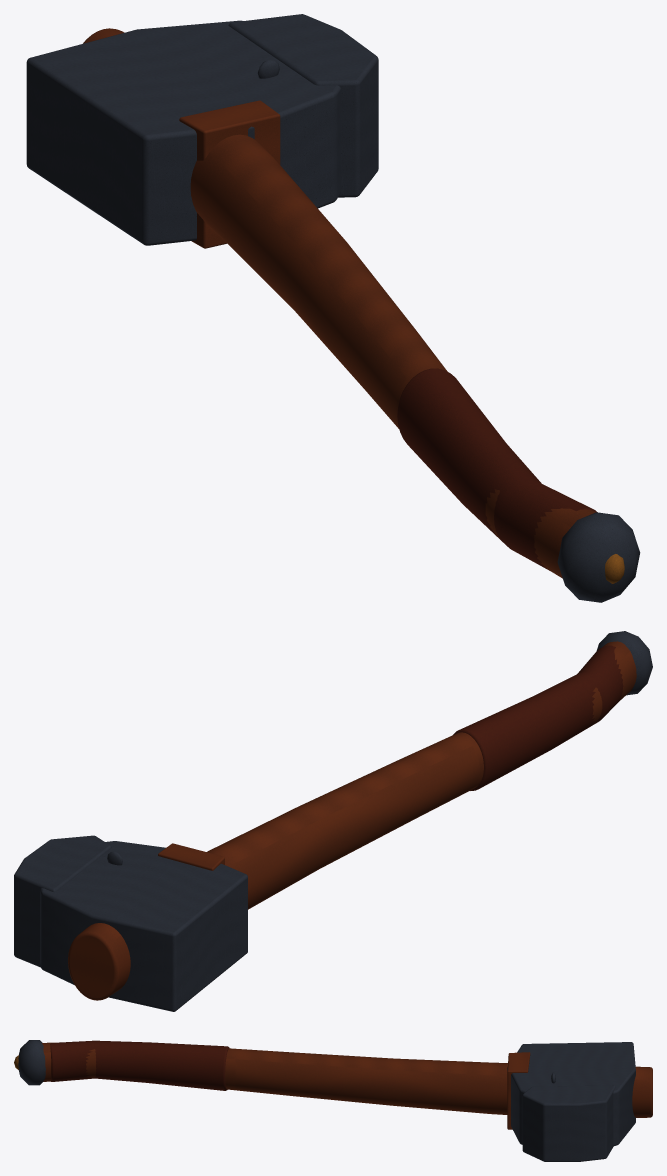
File: fittings-bearded-axe.glb
The picture shows the model from 3 angles, top to bottom: view 1: azimuth 30°, elevation 25°; view 2: azimuth 150°, elevation 25°; view 3: azimuth 270°, elevation 25°; orthographic projection. The views are drawn at different scales.
Visible parts, largest first — view 1: BeardedAxe_HaftSeatReinforcement, BeardedAxe_Handle, BeardedAxe_Grip, BeardedAxe_PollCap, BeardedAxe_ButtCap, BeardedAxe_Wedge; view 2: BeardedAxe_HaftSeatReinforcement, BeardedAxe_Handle, BeardedAxe_Grip, BeardedAxe_PollCap, BeardedAxe_ButtCap, BeardedAxe_Wedge; view 3: BeardedAxe_Handle, BeardedAxe_Grip, BeardedAxe_PollCap, BeardedAxe_HaftSeatReinforcement, BeardedAxe_ButtCap, BeardedAxe_Wedge.
Part boxes in pixels (x1,y1,x2,y2): BeardedAxe_HaftSeatReinforcement: (26, 20, 340, 245); BeardedAxe_Handle: (83, 28, 595, 578); BeardedAxe_Grip: (397, 368, 597, 570); BeardedAxe_PollCap: (228, 14, 378, 197); BeardedAxe_ButtCap: (557, 512, 640, 602); BeardedAxe_Wedge: (179, 100, 280, 248); BeardedAxe_HaftSeatReinforcement: (40, 841, 247, 1011); BeardedAxe_Handle: (68, 641, 636, 1000); BeardedAxe_Grip: (453, 645, 623, 790); BeardedAxe_PollCap: (14, 835, 111, 967); BeardedAxe_ButtCap: (596, 631, 652, 695); BeardedAxe_Wedge: (158, 843, 224, 870); BeardedAxe_Handle: (42, 1042, 652, 1117); BeardedAxe_Grip: (50, 1040, 229, 1090); BeardedAxe_PollCap: (522, 1085, 615, 1161); BeardedAxe_HaftSeatReinforcement: (507, 1042, 635, 1146); BeardedAxe_ButtCap: (18, 1040, 45, 1085); BeardedAxe_Wedge: (507, 1052, 530, 1129).
Bounding box in the file's own units: 0.7832 × 0.326 × 2.63.
4 materials, 4 textured.
